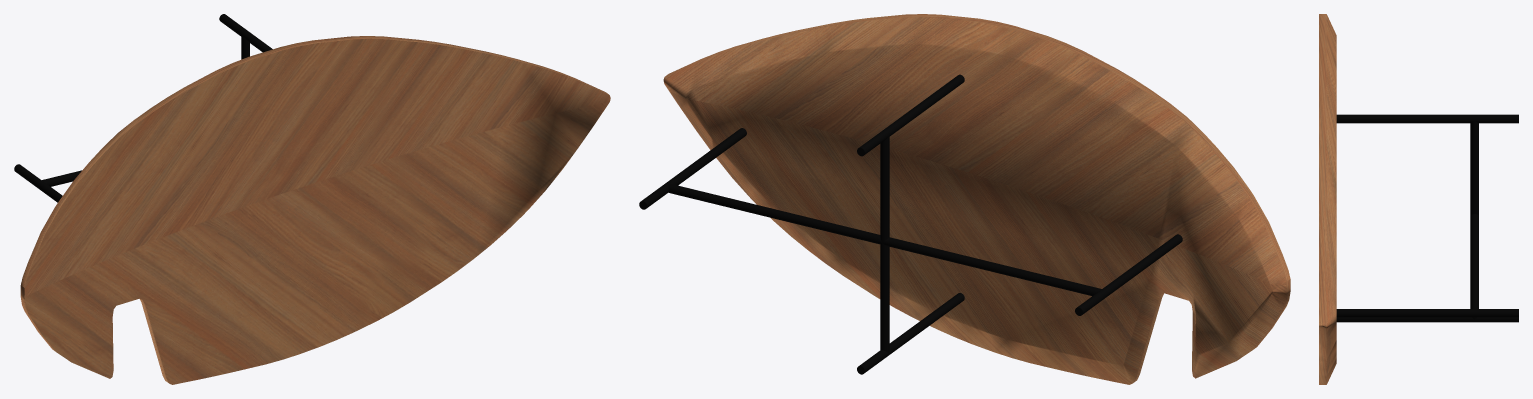
The model's file is tabPaper1.obj.
3 views of the same model, side by side, from view 1: azimuth 30°, elevation 25°; view 2: azimuth 150°, elevation 25°; view 3: azimuth 270°, elevation 25° (orthographic). The views are drawn at different scales.
Visible parts, largest first — view 1: Mesh1 G_3DGeom_1_Defintion_2_1 Groupe33_1 Groupe32_1 Groupe31_1 , Mesh5 G_3DGeom_5_Defintion_2_1 Groupe41_1 Groupe40_1 Groupe31_1 , Mesh2 G_3DGeom_2_Defintion_2_1 Groupe35_1 Groupe34_1 Groupe31_1 ; view 2: Mesh1 G_3DGeom_1_Defintion_2_1 Groupe33_1 Groupe32_1 Groupe31_1 , Mesh4 G_3DGeom_4_Defintion_2_1 Groupe39_1 Groupe38_1 Groupe31_1 , Mesh7 G_3DGeom_7_Defintion_2_1 Groupe45_1 Groupe44_1 Groupe31_1 , Mesh2 G_3DGeom_2_Defintion_2_1 Groupe35_1 Groupe34_1 Groupe31_1 , Mesh5 G_3DGeom_5_Defintion_2_1 Groupe41_1 Groupe40_1 Groupe31_1 , Mesh6 G_3DGeom_6_Defintion_2_1 Groupe43_1 Groupe42_1 Groupe31_1 , Mesh3 G_3DGeom_3_Defintion_2_1 Groupe37_1 Groupe36_1 Groupe31_1 ; view 3: Mesh1 G_3DGeom_1_Defintion_2_1 Groupe33_1 Groupe32_1 Groupe31_1 , Mesh3 G_3DGeom_3_Defintion_2_1 Groupe37_1 Groupe36_1 Groupe31_1 , Mesh5 G_3DGeom_5_Defintion_2_1 Groupe41_1 Groupe40_1 Groupe31_1 , Mesh6 G_3DGeom_6_Defintion_2_1 Groupe43_1 Groupe42_1 Groupe31_1 , Mesh4 G_3DGeom_4_Defintion_2_1 Groupe39_1 Groupe38_1 Groupe31_1 , Mesh7 G_3DGeom_7_Defintion_2_1 Groupe45_1 Groupe44_1 Groupe31_1 .
Boxes of the visible parts, left/top/right/bottom form: Mesh1 G_3DGeom_1_Defintion_2_1 Groupe33_1 Groupe32_1 Groupe31_1 : left=20, top=36, right=610, bottom=384; Mesh5 G_3DGeom_5_Defintion_2_1 Groupe41_1 Groupe40_1 Groupe31_1 : left=219, top=14, right=272, bottom=52; Mesh2 G_3DGeom_2_Defintion_2_1 Groupe35_1 Groupe34_1 Groupe31_1 : left=14, top=164, right=62, bottom=202; Mesh1 G_3DGeom_1_Defintion_2_1 Groupe33_1 Groupe32_1 Groupe31_1 : left=663, top=14, right=1290, bottom=384; Mesh4 G_3DGeom_4_Defintion_2_1 Groupe39_1 Groupe38_1 Groupe31_1 : left=666, top=183, right=1102, bottom=295; Mesh7 G_3DGeom_7_Defintion_2_1 Groupe45_1 Groupe44_1 Groupe31_1 : left=880, top=136, right=889, bottom=354; Mesh2 G_3DGeom_2_Defintion_2_1 Groupe35_1 Groupe34_1 Groupe31_1 : left=1075, top=234, right=1182, bottom=315; Mesh5 G_3DGeom_5_Defintion_2_1 Groupe41_1 Groupe40_1 Groupe31_1 : left=857, top=74, right=964, bottom=156; Mesh6 G_3DGeom_6_Defintion_2_1 Groupe43_1 Groupe42_1 Groupe31_1 : left=857, top=293, right=964, bottom=374; Mesh3 G_3DGeom_3_Defintion_2_1 Groupe37_1 Groupe36_1 Groupe31_1 : left=639, top=128, right=746, bottom=209; Mesh1 G_3DGeom_1_Defintion_2_1 Groupe33_1 Groupe32_1 Groupe31_1 : left=1319, top=14, right=1336, bottom=384; Mesh3 G_3DGeom_3_Defintion_2_1 Groupe37_1 Groupe36_1 Groupe31_1 : left=1336, top=309, right=1518, bottom=317; Mesh5 G_3DGeom_5_Defintion_2_1 Groupe41_1 Groupe40_1 Groupe31_1 : left=1336, top=114, right=1518, bottom=122; Mesh6 G_3DGeom_6_Defintion_2_1 Groupe43_1 Groupe42_1 Groupe31_1 : left=1336, top=317, right=1518, bottom=322; Mesh4 G_3DGeom_4_Defintion_2_1 Groupe39_1 Groupe38_1 Groupe31_1 : left=1470, top=214, right=1478, bottom=309; Mesh7 G_3DGeom_7_Defintion_2_1 Groupe45_1 Groupe44_1 Groupe31_1 : left=1470, top=121, right=1478, bottom=320.
Bounding box in the file's own units: 1.18 × 0.5955 × 0.3583.
7 materials, 1 textured.
